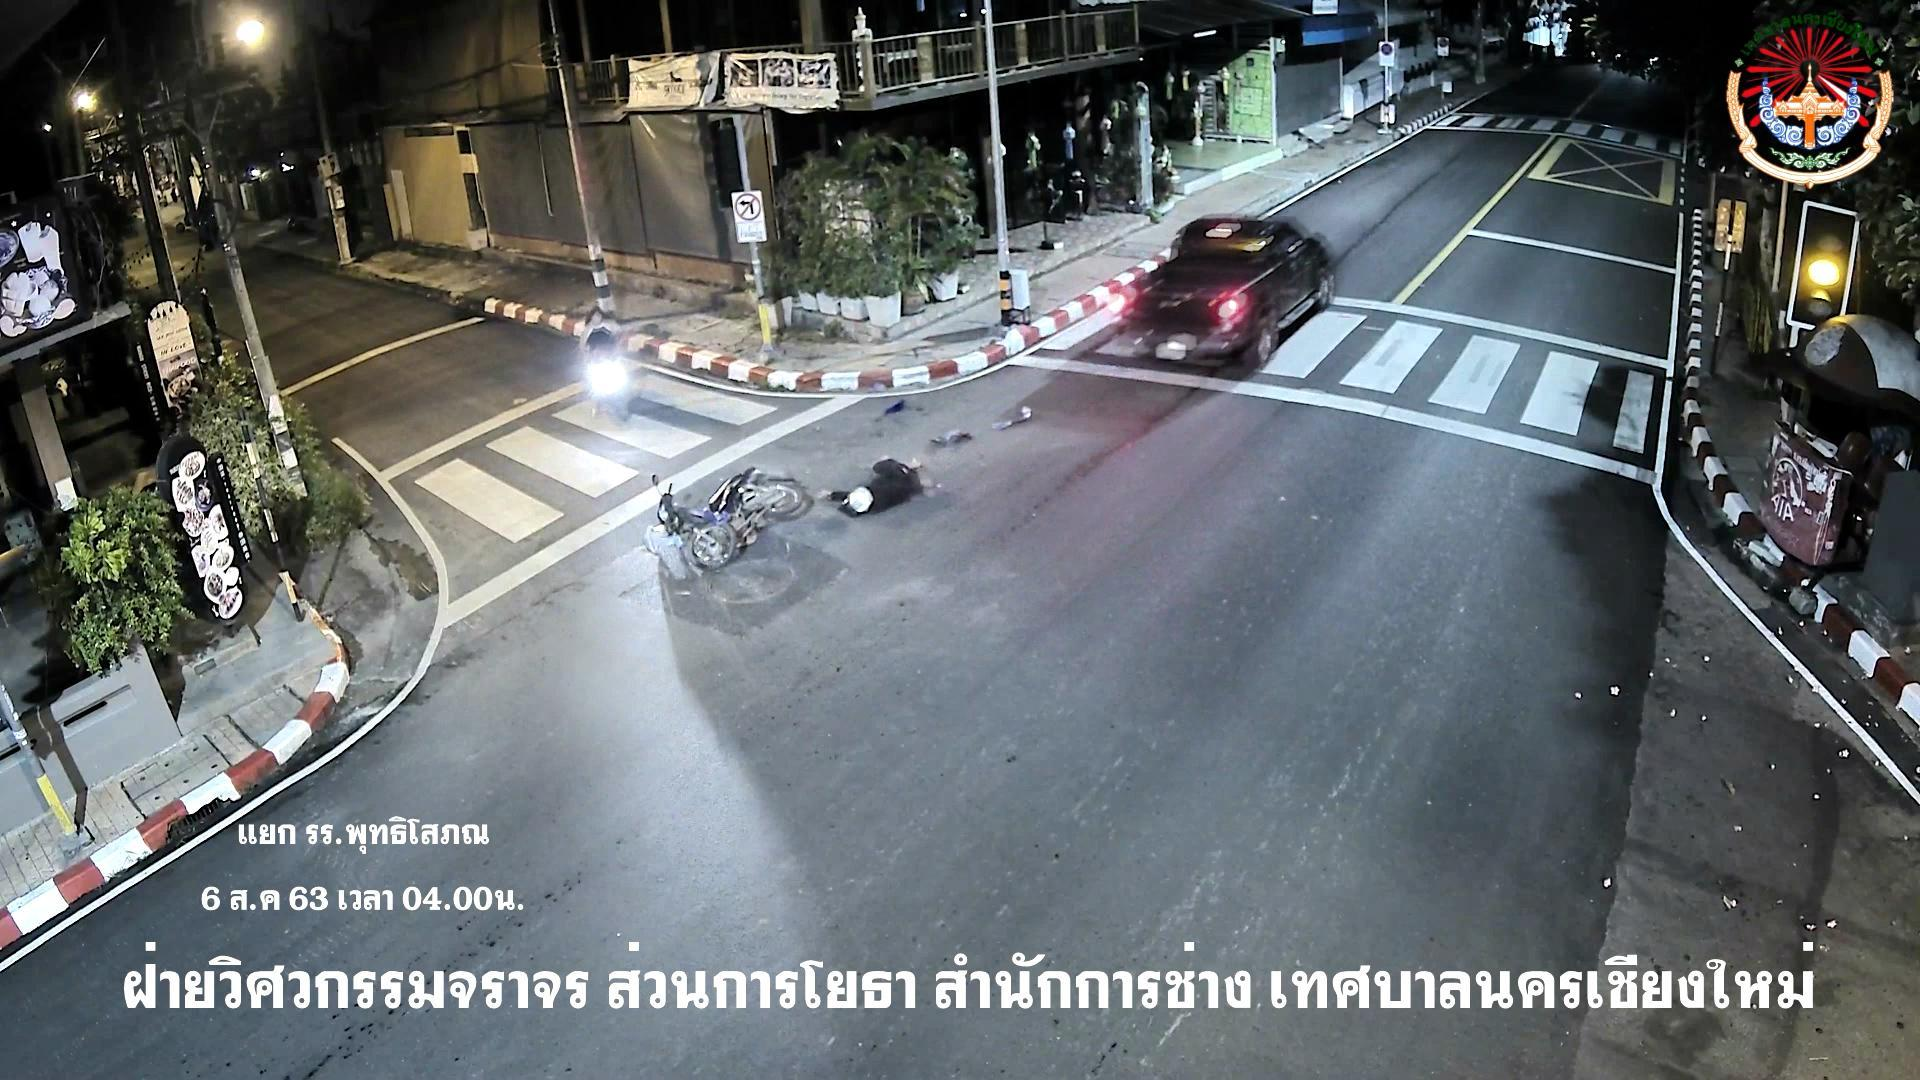accident: (820, 458, 931, 518)
